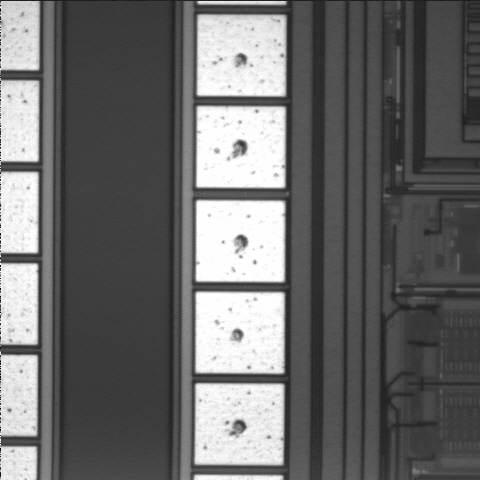pad: (196, 106, 286, 188), (196, 200, 285, 282), (195, 383, 284, 465), (196, 292, 284, 374), (197, 15, 286, 96)
